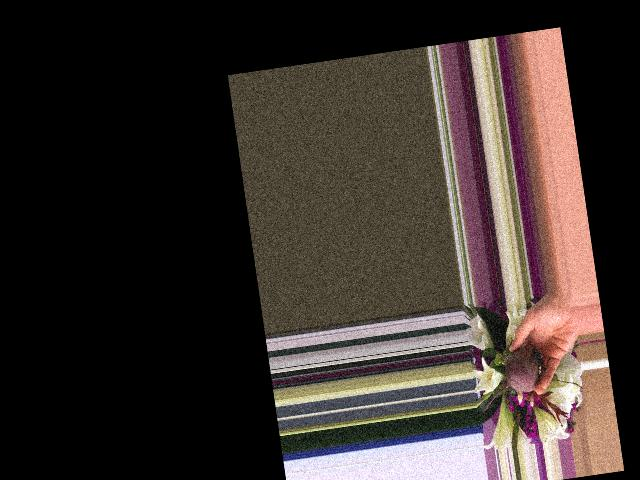beet: (472, 345, 549, 415)
